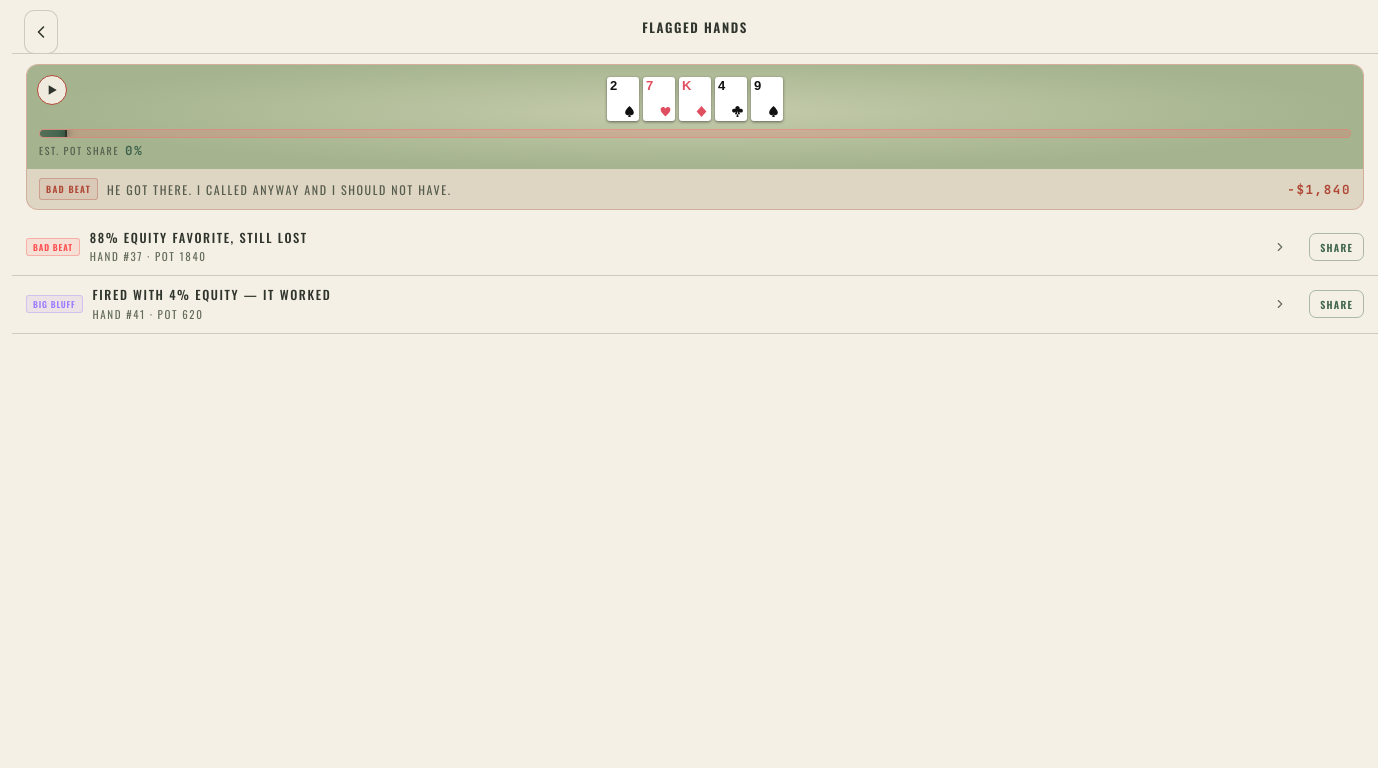
FlaggedHandsSheet hand review › shows the hero hole cards face up
What coordinates should you click on to do the following:
click the text "88% equity favorite, still lost"
I would click on:
 (199, 238)
Its box is [90,228,308,247].
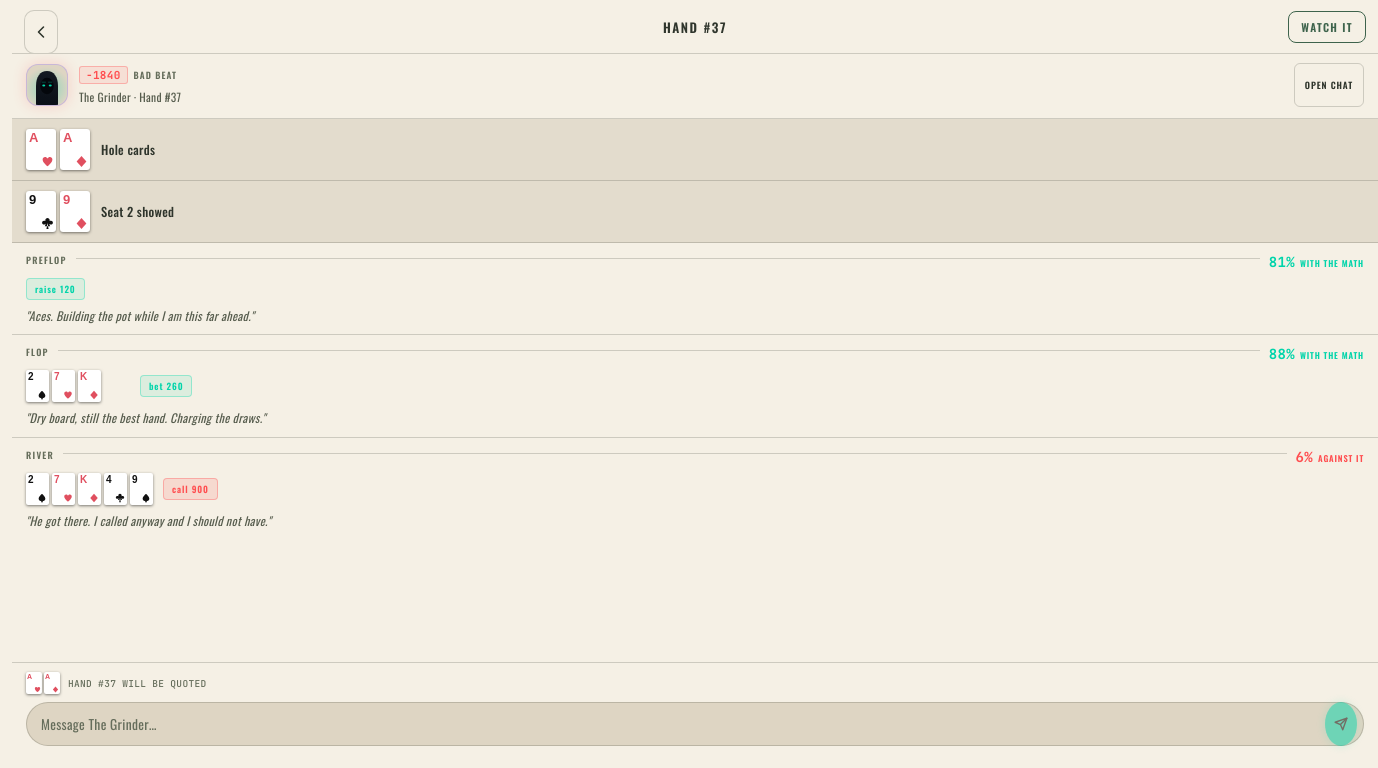
Expected: the text "Hole cards" is shown, [101,140,155,159]
